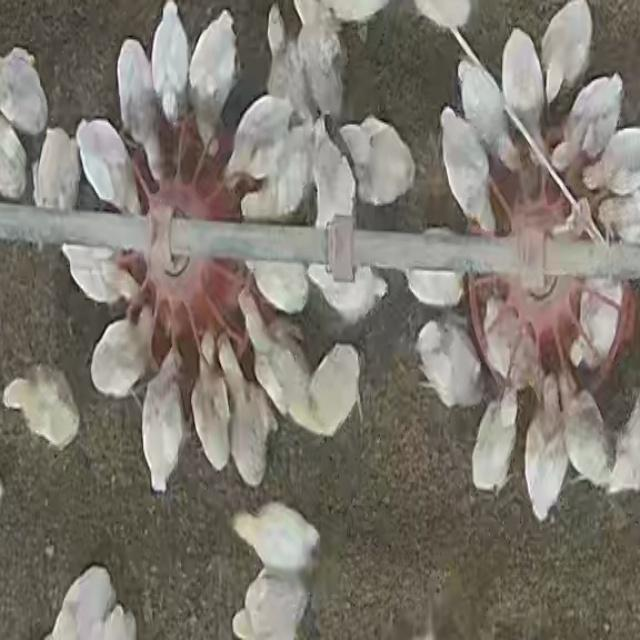chicken: (239, 291, 313, 421), (220, 95, 301, 188), (221, 341, 273, 484), (338, 115, 416, 208), (456, 56, 514, 180), (414, 315, 487, 413), (291, 341, 363, 440), (37, 565, 133, 639), (438, 106, 493, 234), (73, 120, 141, 222), (558, 74, 622, 181), (140, 348, 186, 496), (230, 500, 322, 574), (0, 367, 84, 448), (291, 1, 344, 129), (188, 8, 237, 146), (244, 138, 315, 224), (524, 376, 566, 518), (560, 374, 610, 493), (484, 298, 547, 392), (88, 315, 154, 404), (234, 229, 309, 307), (309, 118, 357, 238), (190, 339, 230, 477), (540, 1, 591, 105), (232, 572, 311, 639), (470, 389, 519, 496), (306, 265, 386, 327), (502, 28, 546, 140), (152, 1, 193, 120), (59, 243, 130, 307), (35, 123, 81, 219), (575, 282, 624, 372), (406, 229, 465, 303), (265, 2, 303, 116), (0, 47, 47, 138), (114, 39, 153, 145), (605, 379, 640, 497), (584, 127, 640, 191), (0, 111, 29, 201)
